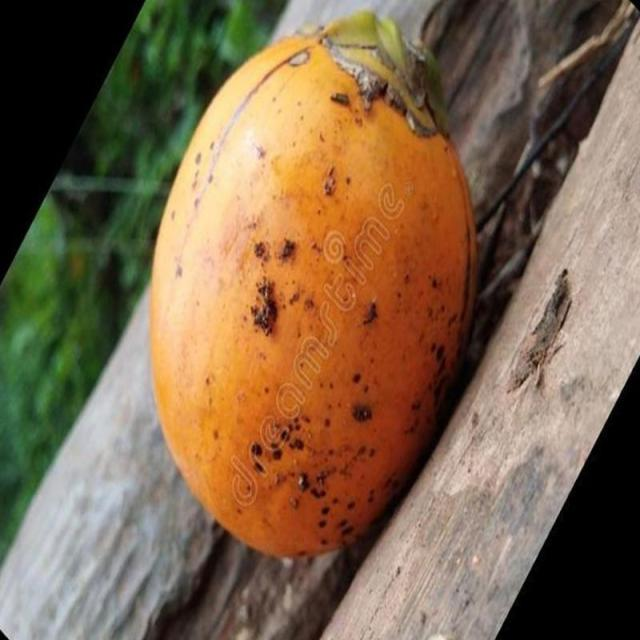good: (147, 11, 478, 562)
